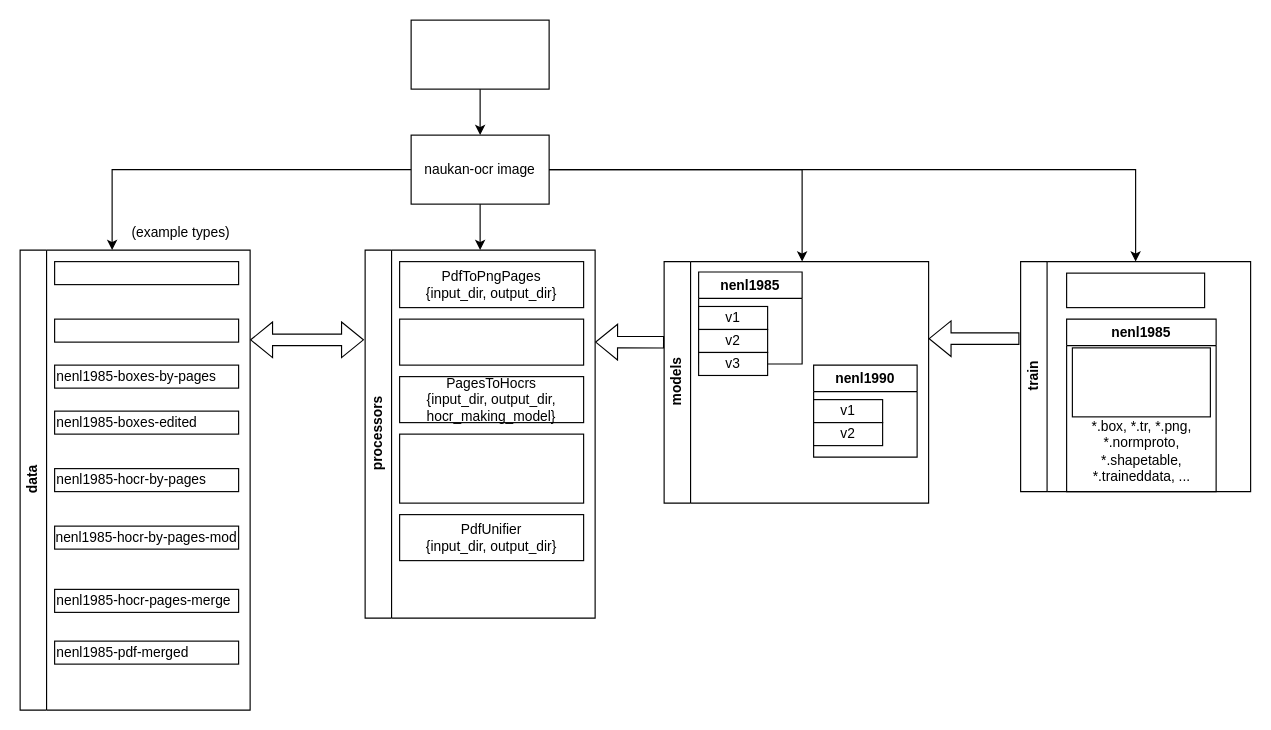
Image size: 1271x730. Some labels were removed from this diagram. The shapes that lost their labels are listed below. From the top down, each one's centre as x and y in pixels, then its label:
the point at 479,54: Naukan OCR
the point at 146,272: nenl1985-pdf
the point at 1135,290: manager.py
the point at 146,330: nenl1985-pdf-by-pages
the point at 491,341: PagesToBoxes {input_dir, output_dir, box_making_model}
the point at 1140,382: prep {unicharambigs, font_properties}
the point at 491,468: PagesHocrsMerge {hocr_input_dir, pages_input_dir, output_dir}
